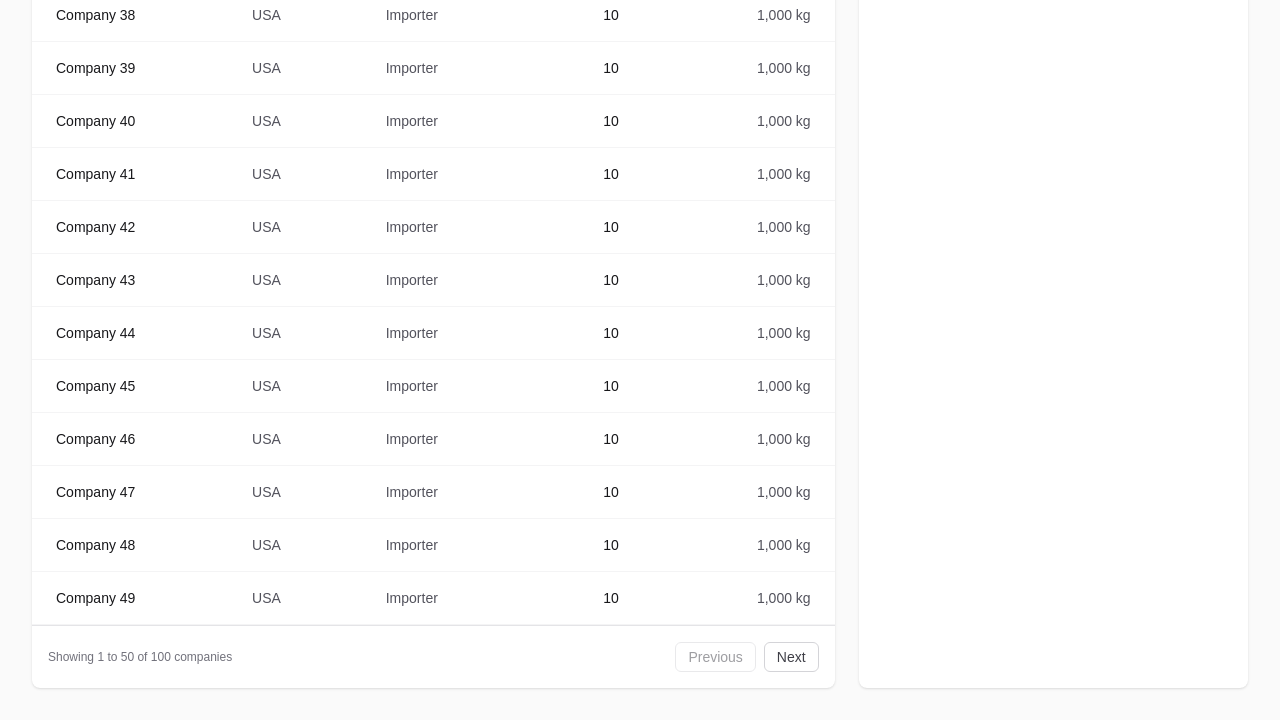
Test case: Pagination Widget › should navigate to previous page
(page scrolled)
Go to Page 2
What coordinates should you click on to do the following:
click the button "Next"
I would click on:
 (791, 657)
Its box is [764,642,819,672].
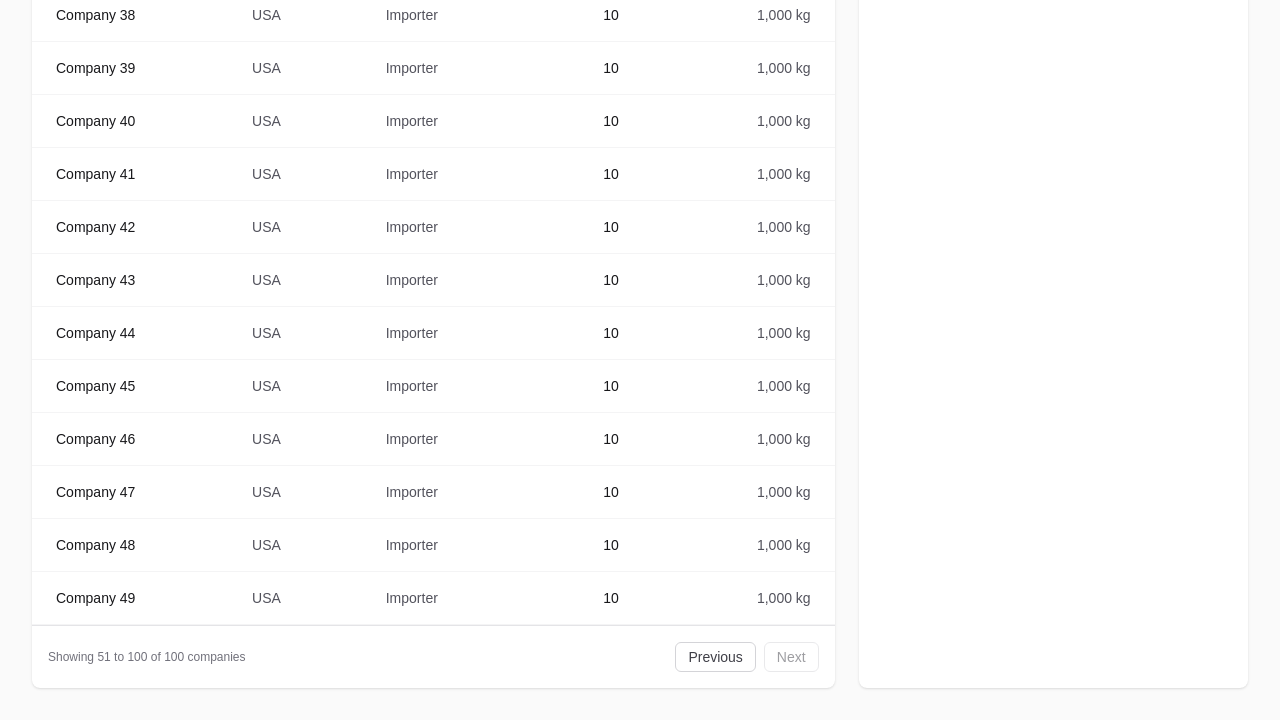
expect the button "Previous" is enabled: met
Go back to Page 1
What coordinates should you click on to do the following:
click the button "Previous"
I would click on:
 (716, 657)
Its box is [675,642,756,672].
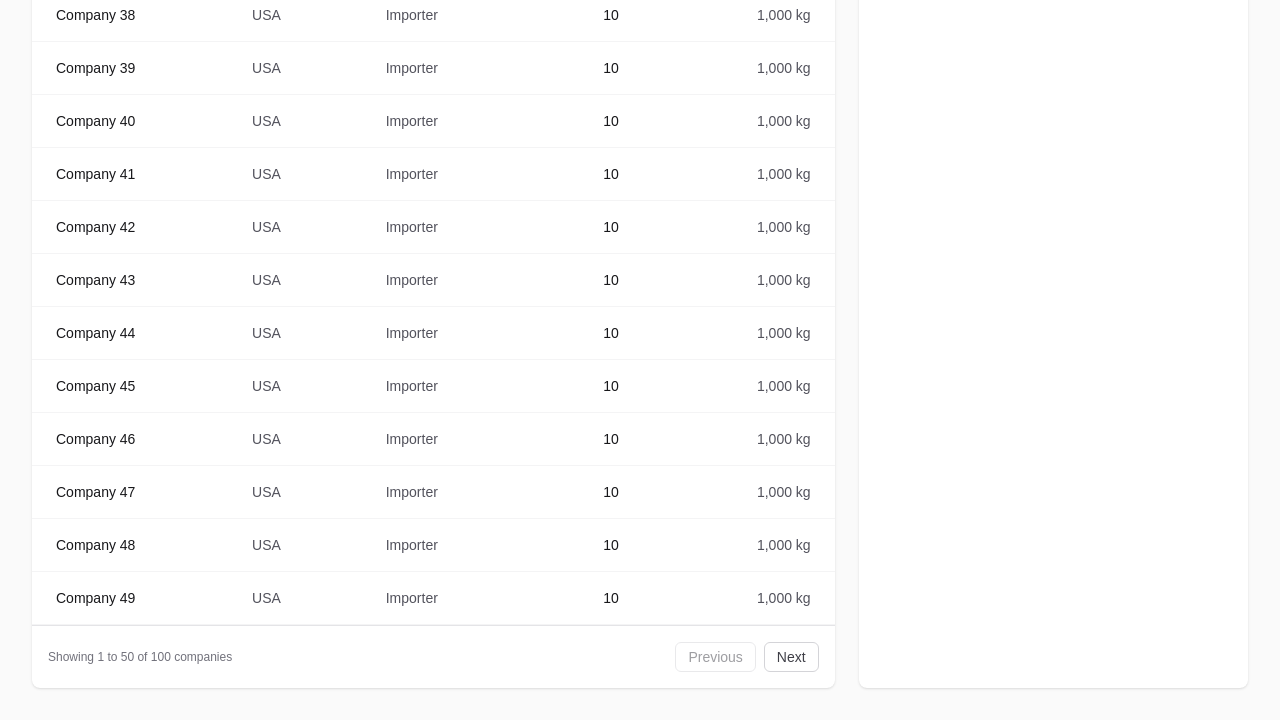
expect the button "Previous" is disabled: met, box [675,642,756,672]
